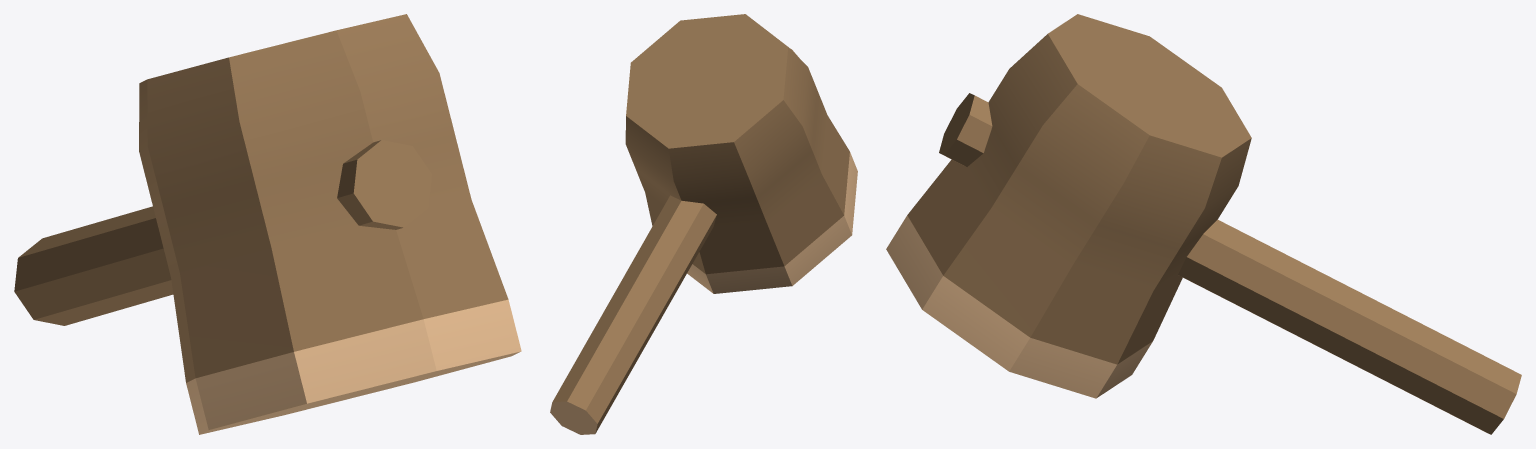
Rendered from hammerAnim.fbxhammerAnim.fbx.
3 views of the same model, side by side, from view 1: azimuth 30°, elevation 25°; view 2: azimuth 150°, elevation 25°; view 3: azimuth 270°, elevation 25° (orthographic). The views are drawn at different scales.
Visible parts, largest first — view 1: pCylinder3; view 2: pCylinder3; view 3: pCylinder3.
Part boxes in pixels (x1,y1,x2,y2): pCylinder3: [14, 14, 521, 434]; pCylinder3: [550, 14, 857, 434]; pCylinder3: [886, 14, 1521, 434].
Size of the model in its own units: 2.15 by 3.34 by 4.83.
